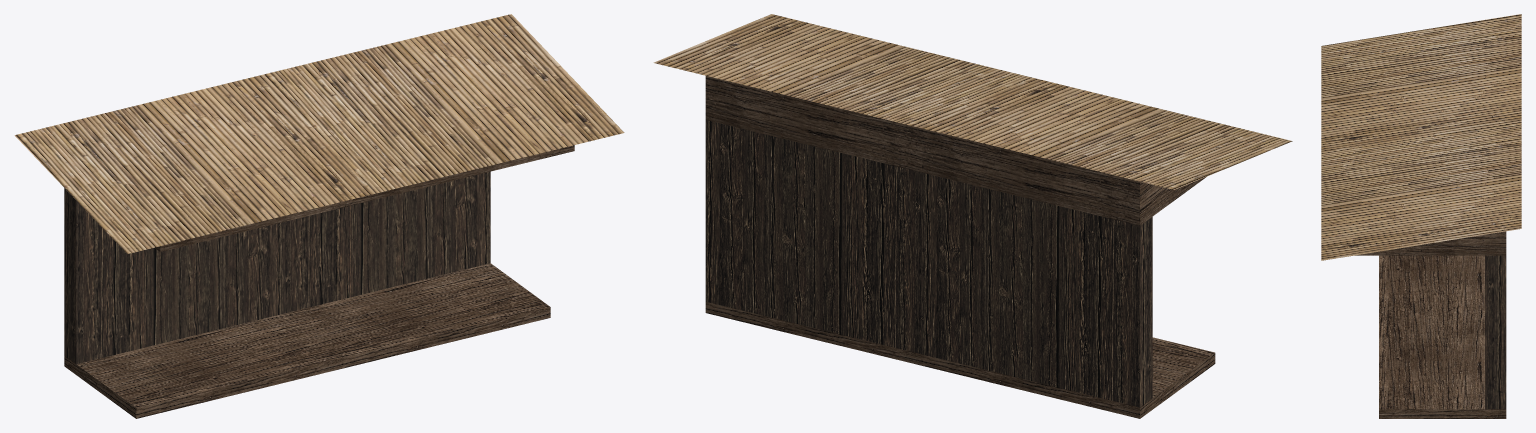
The model's file is build3.FBX.
3 views of the same model, side by side, from view 1: azimuth 30°, elevation 25°; view 2: azimuth 150°, elevation 25°; view 3: azimuth 270°, elevation 25° (orthographic). The views are drawn at different scales.
Visible parts, largest first — view 1: build3; view 2: build3; view 3: build3.
Boxes of the visible parts, box(x1,y1,x2,y2) form: build3: box(14, 14, 624, 418); build3: box(653, 14, 1292, 418); build3: box(1321, 14, 1521, 418).
Size of the model in its own units: 240 by 108 by 94.54.
